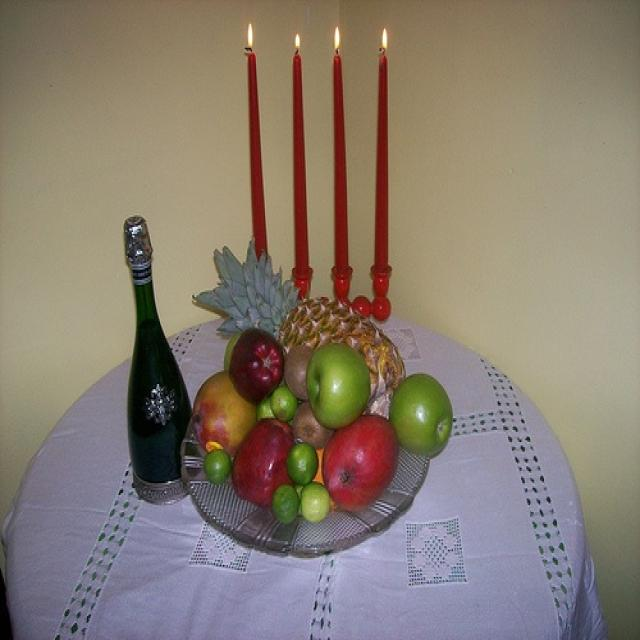bottle: (124, 211, 192, 506)
diningtable: (1, 289, 606, 639)
